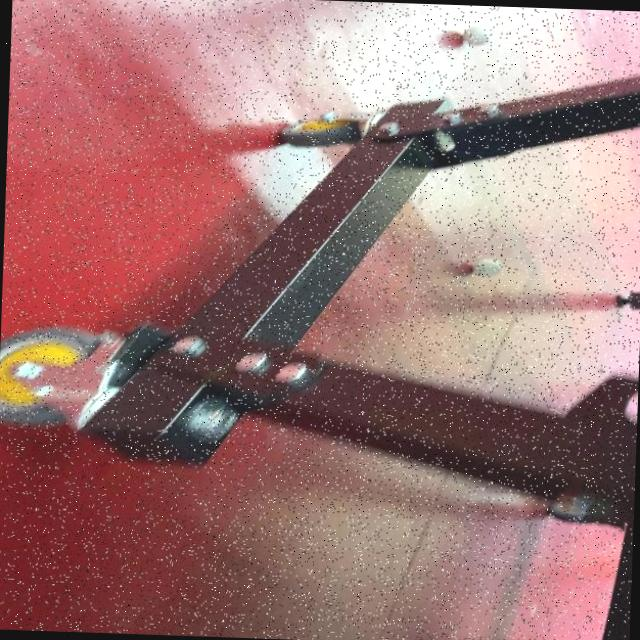ping-pong-ball: (458, 24, 494, 47), (470, 256, 503, 277)
